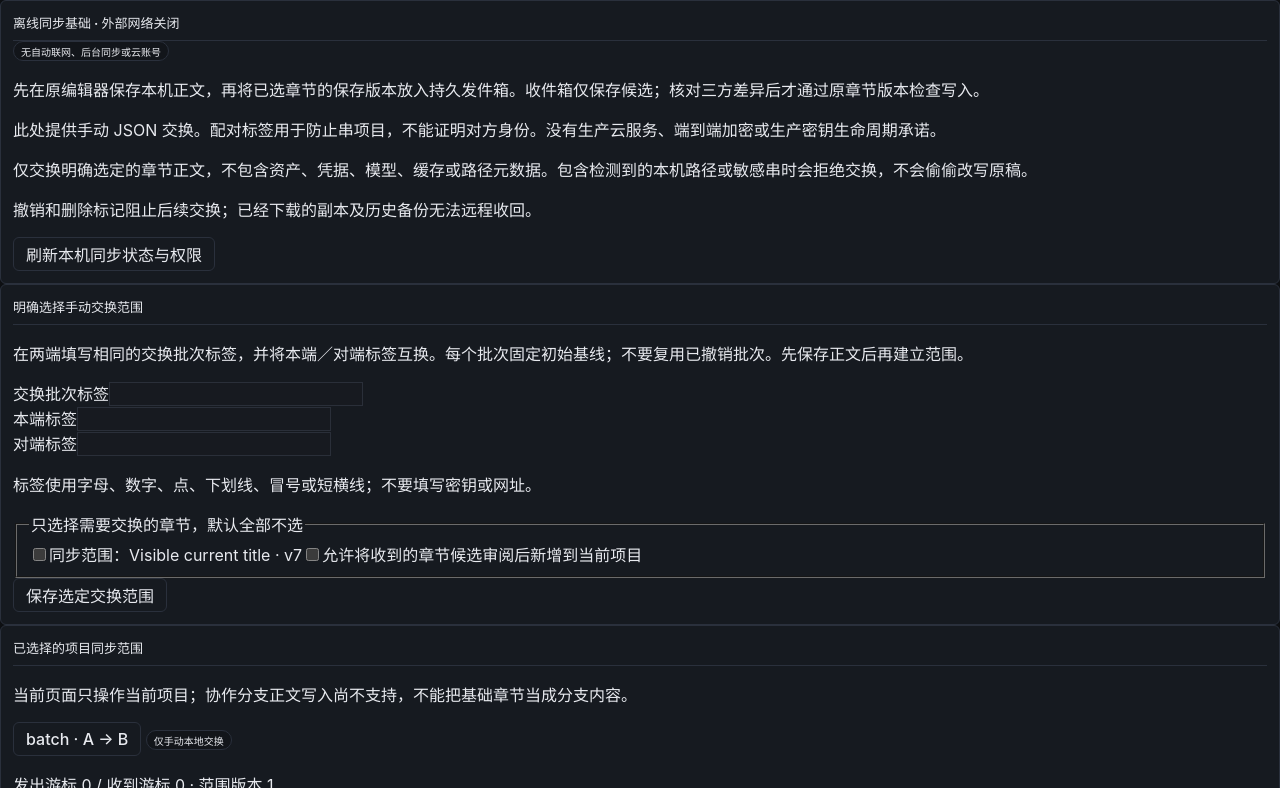
Scenario: retires prior recovery and actions when an explicit reread returns 401
The image size is (1280, 788).
What coordinates should you click on to do the following:
click the button "batch · A → B"
I would click on:
 (77, 739)
Its box is [13,722,141,756].
(page scrolled)
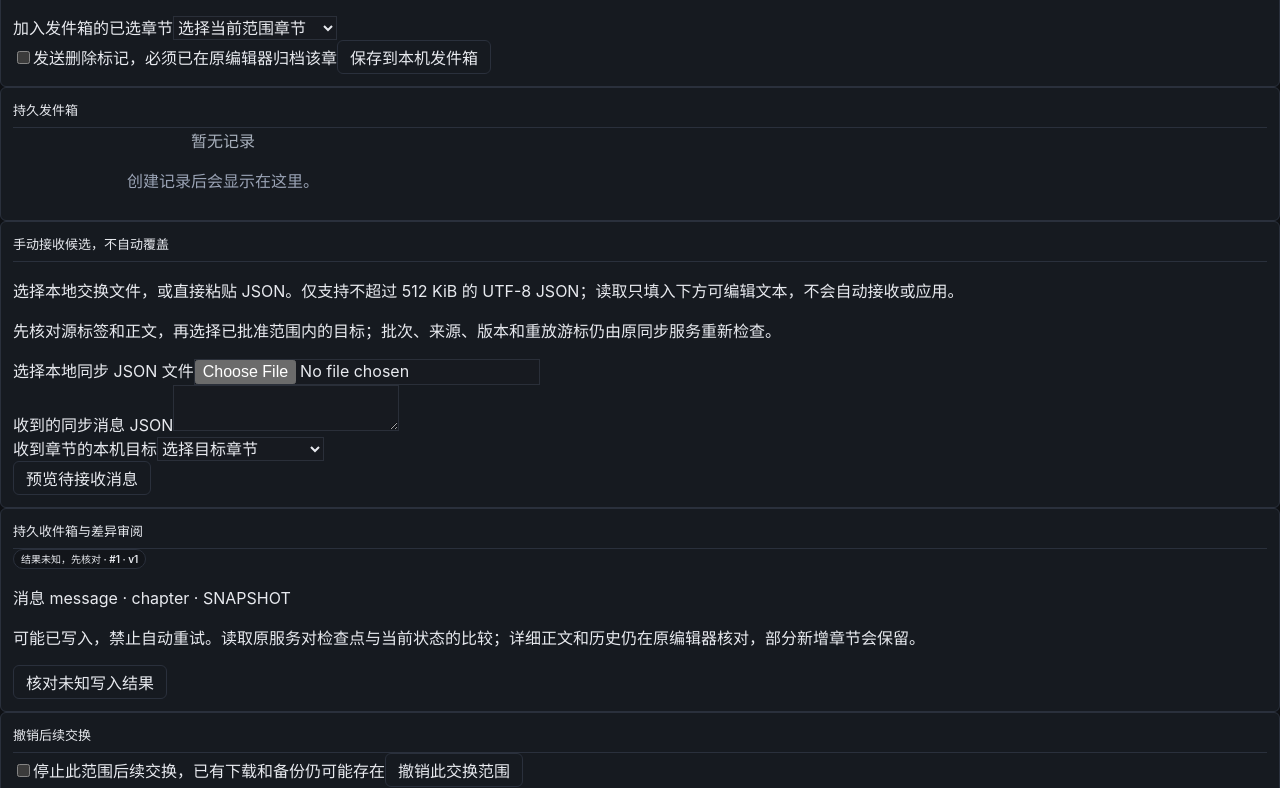
What coordinates should you click on to do the following:
click the button "核对未知写入结果"
I would click on:
 (90, 682)
Its box is [13,665,167,699].
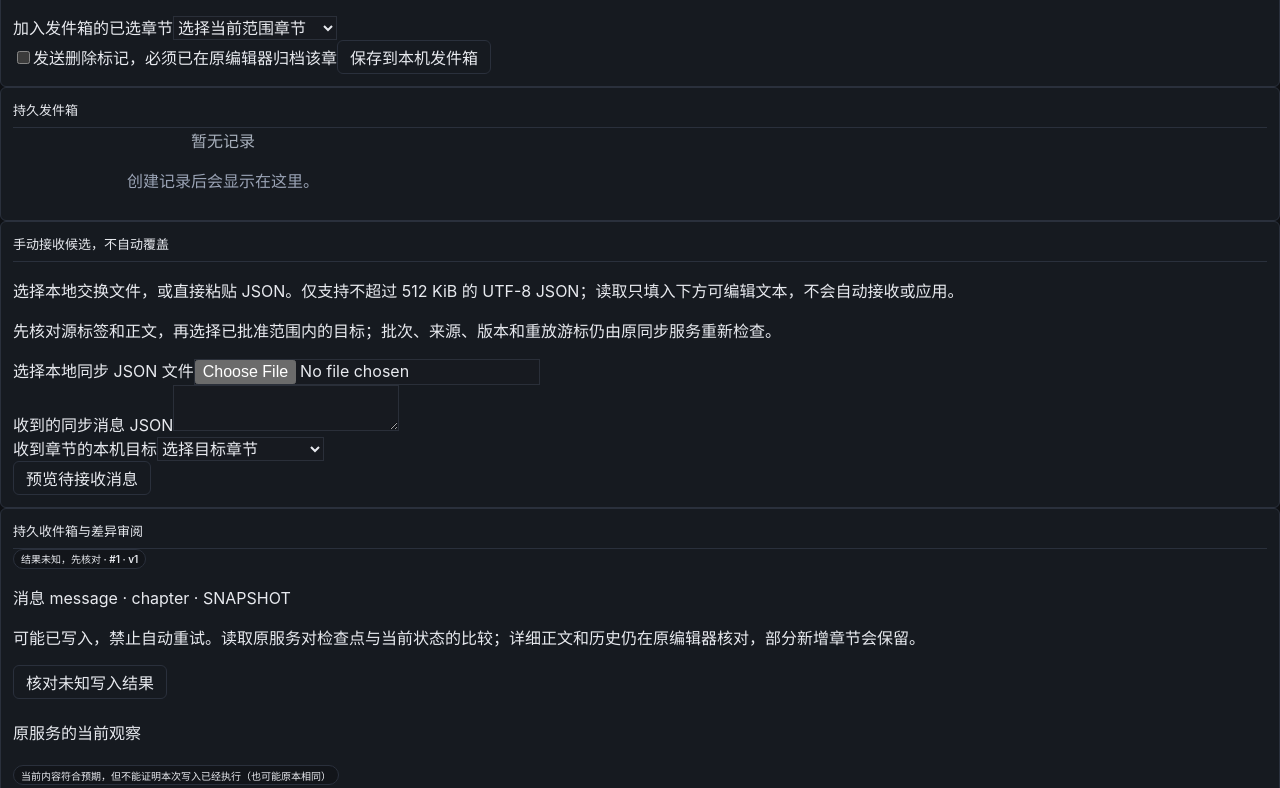
What coordinates should you click on to do the following:
click the button "核对未知写入结果"
I would click on:
 (90, 682)
Its box is [13,665,167,699].
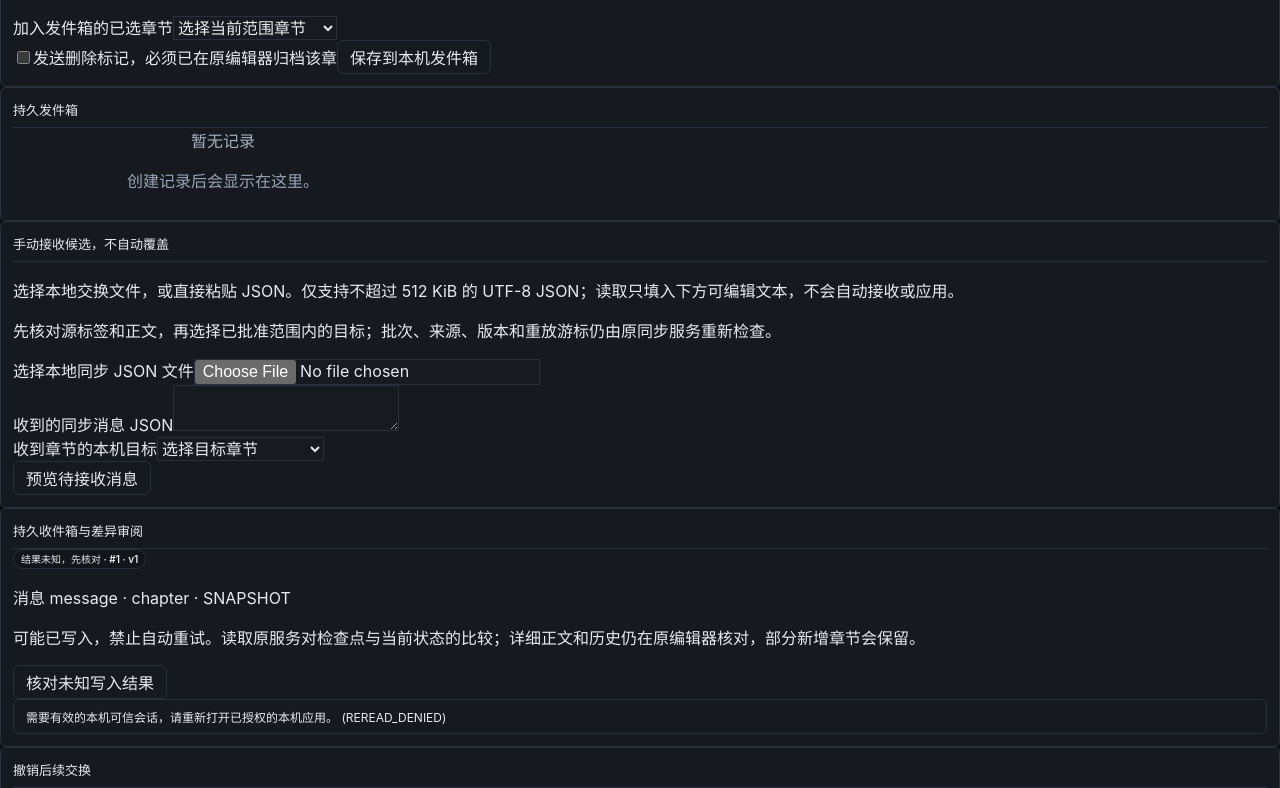
Check: the text "需要有效的本机可信会话，请重新打开已授权的本机应用。 (REREAD_DENIED)" is shown, box [13,699,1267,734]
